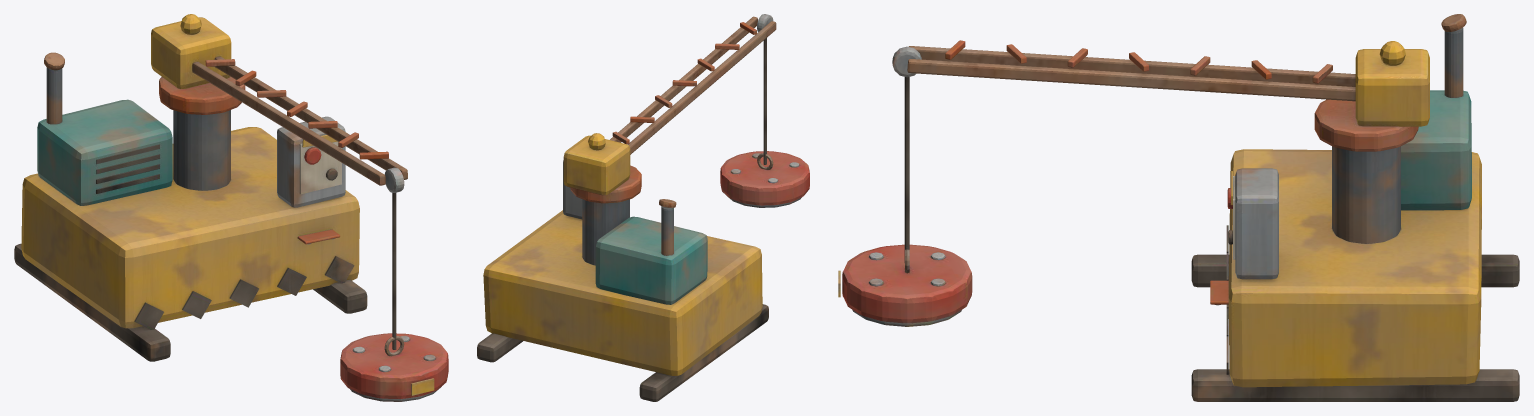
Rendered from magnet_collector.glb.
The picture shows the model from 3 angles, left to right: view 1: azimuth 30°, elevation 25°; view 2: azimuth 150°, elevation 25°; view 3: azimuth 270°, elevation 25°; orthographic projection. The views are drawn at different scales.
Visible parts, largest first — view 1: MagnetCollector_Mesh, Boom_Mesh, Magnet_Mesh, Turret_Mesh, Cable_Mesh; view 2: MagnetCollector_Mesh, Boom_Mesh, Magnet_Mesh, Turret_Mesh, Cable_Mesh; view 3: MagnetCollector_Mesh, Boom_Mesh, Turret_Mesh, Magnet_Mesh, Cable_Mesh.
Boxes of the visible parts, bbox=[...] form: MagnetCollector_Mesh: bbox=[14, 52, 367, 361]; Boom_Mesh: bbox=[192, 56, 407, 192]; Magnet_Mesh: bbox=[340, 333, 448, 401]; Turret_Mesh: bbox=[151, 14, 245, 114]; Cable_Mesh: bbox=[392, 193, 396, 349]; MagnetCollector_Mesh: bbox=[477, 160, 768, 401]; Boom_Mesh: bbox=[610, 14, 776, 154]; Magnet_Mesh: bbox=[720, 151, 809, 207]; Turret_Mesh: bbox=[563, 133, 641, 203]; Cable_Mesh: bbox=[763, 38, 766, 164]; MagnetCollector_Mesh: bbox=[1191, 14, 1519, 401]; Boom_Mesh: bbox=[892, 40, 1355, 101]; Turret_Mesh: bbox=[1314, 41, 1429, 151]; Magnet_Mesh: bbox=[838, 244, 972, 326]; Cable_Mesh: bbox=[904, 77, 909, 262].
Bounding box in the file's own units: 1.51 × 1.55 × 3.11.
5 materials, 5 textured.
